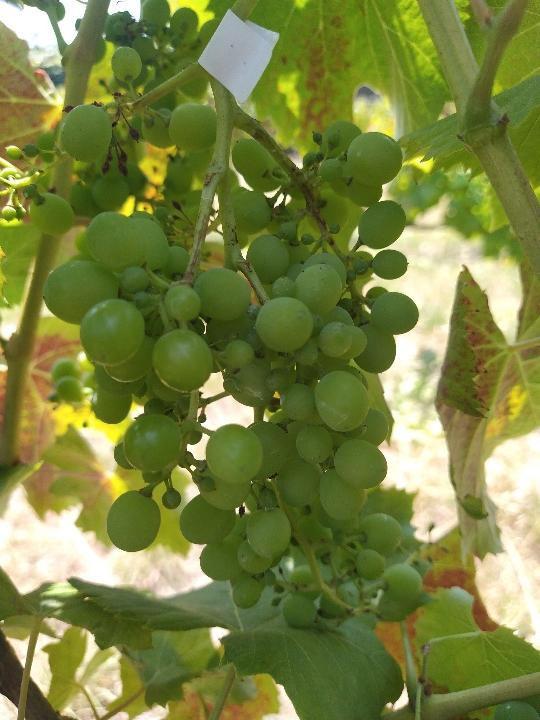grape: (41, 46, 424, 631)
